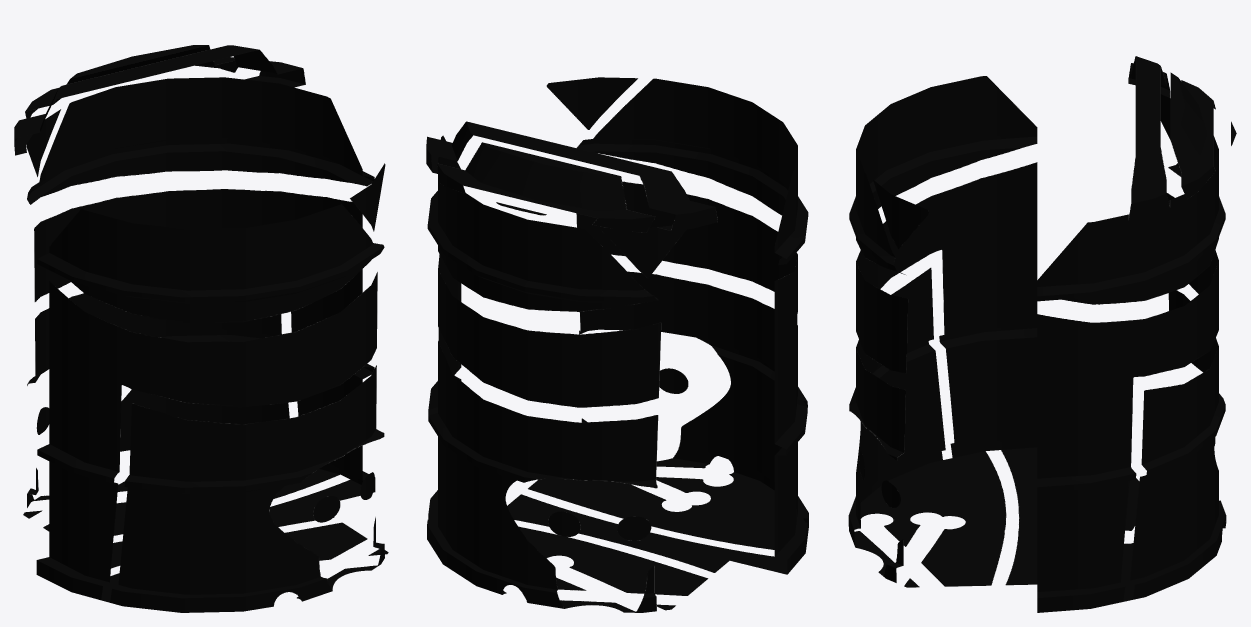
Rendered from pesticide.fbx.
3 renders of one model, left to right at view 1: azimuth 30°, elevation 25°; view 2: azimuth 150°, elevation 25°; view 3: azimuth 270°, elevation 25°, orthographic.
Parts seen in each view (by area): view 1: pCylinder1; view 2: pCylinder1; view 3: pCylinder1.
Boxes of the visible parts, x1,y1,x2,y2 form: pCylinder1: (14, 45, 388, 612); pCylinder1: (426, 77, 808, 612); pCylinder1: (848, 56, 1236, 612).
Size of the model in its own units: 14.77 by 20.18 by 15.
